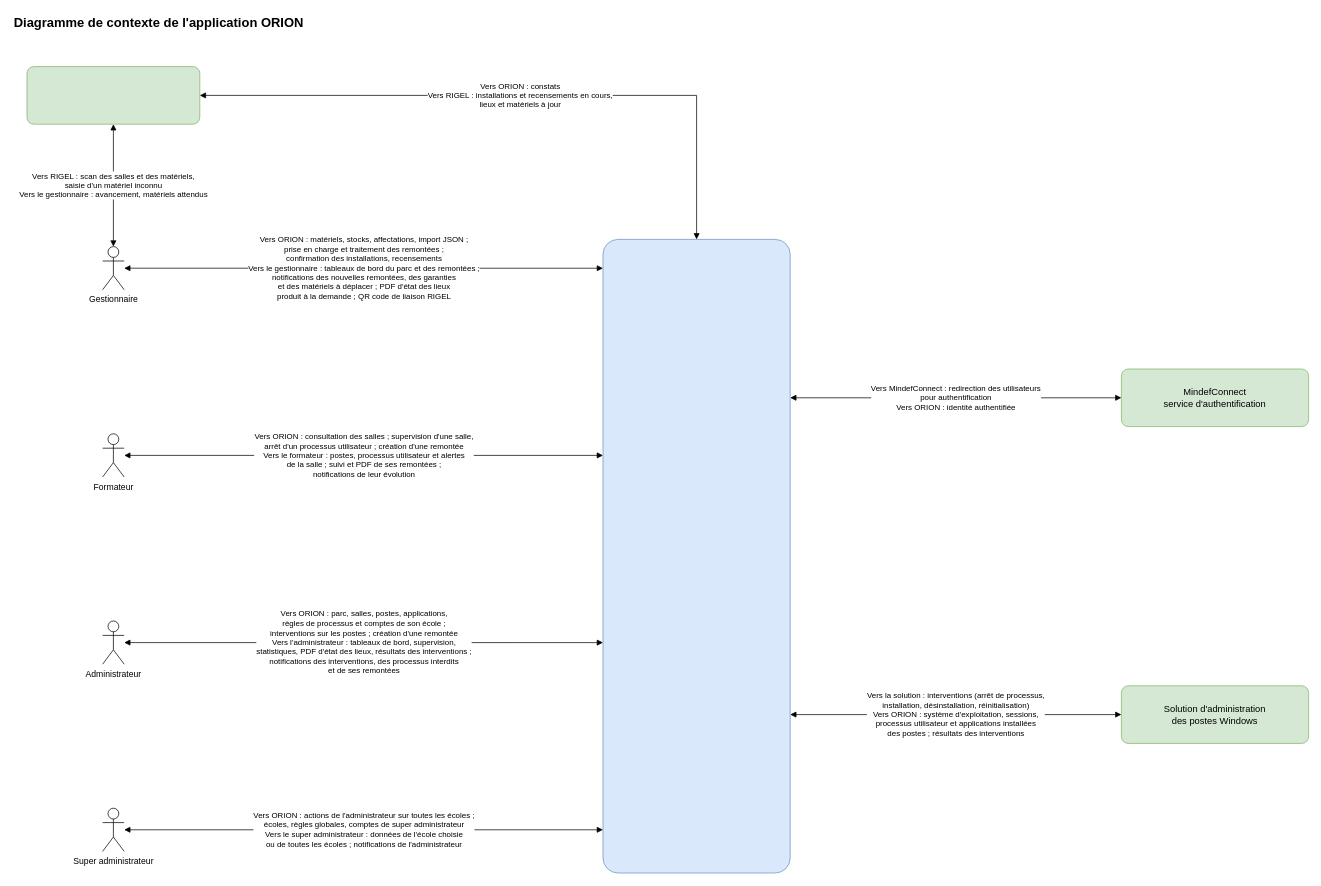
This 1321x886 diagram has some shape labels left out. The box of each missing label's shape, as (x1, y1, x2, y2) in pixels:
Application ORION: (602, 239, 790, 873)
RIGEL, recensement mobile sur le téléphone du gestionnaire: (26, 66, 200, 124)
